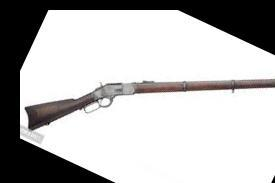larga: (24, 78, 275, 132)
